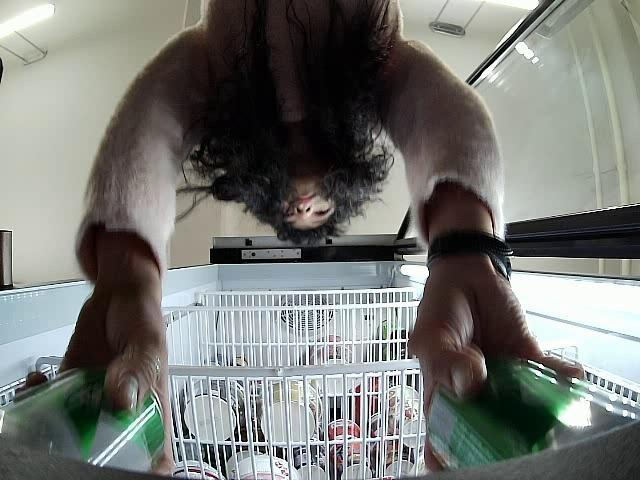12_chilsungCider: (426, 352, 633, 476), (0, 370, 165, 474)
